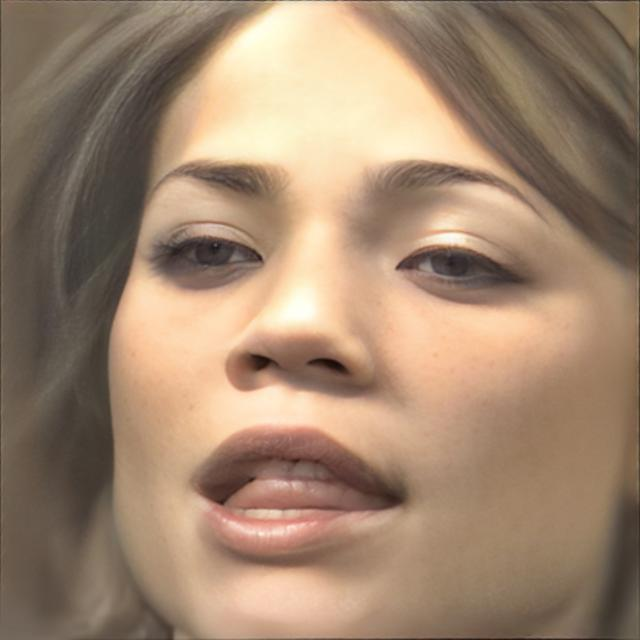neutral: (107, 0, 639, 640)
